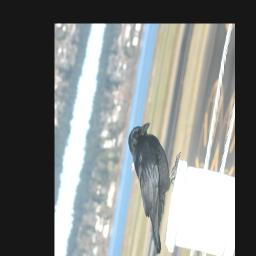Crow: (108, 117, 185, 256)
